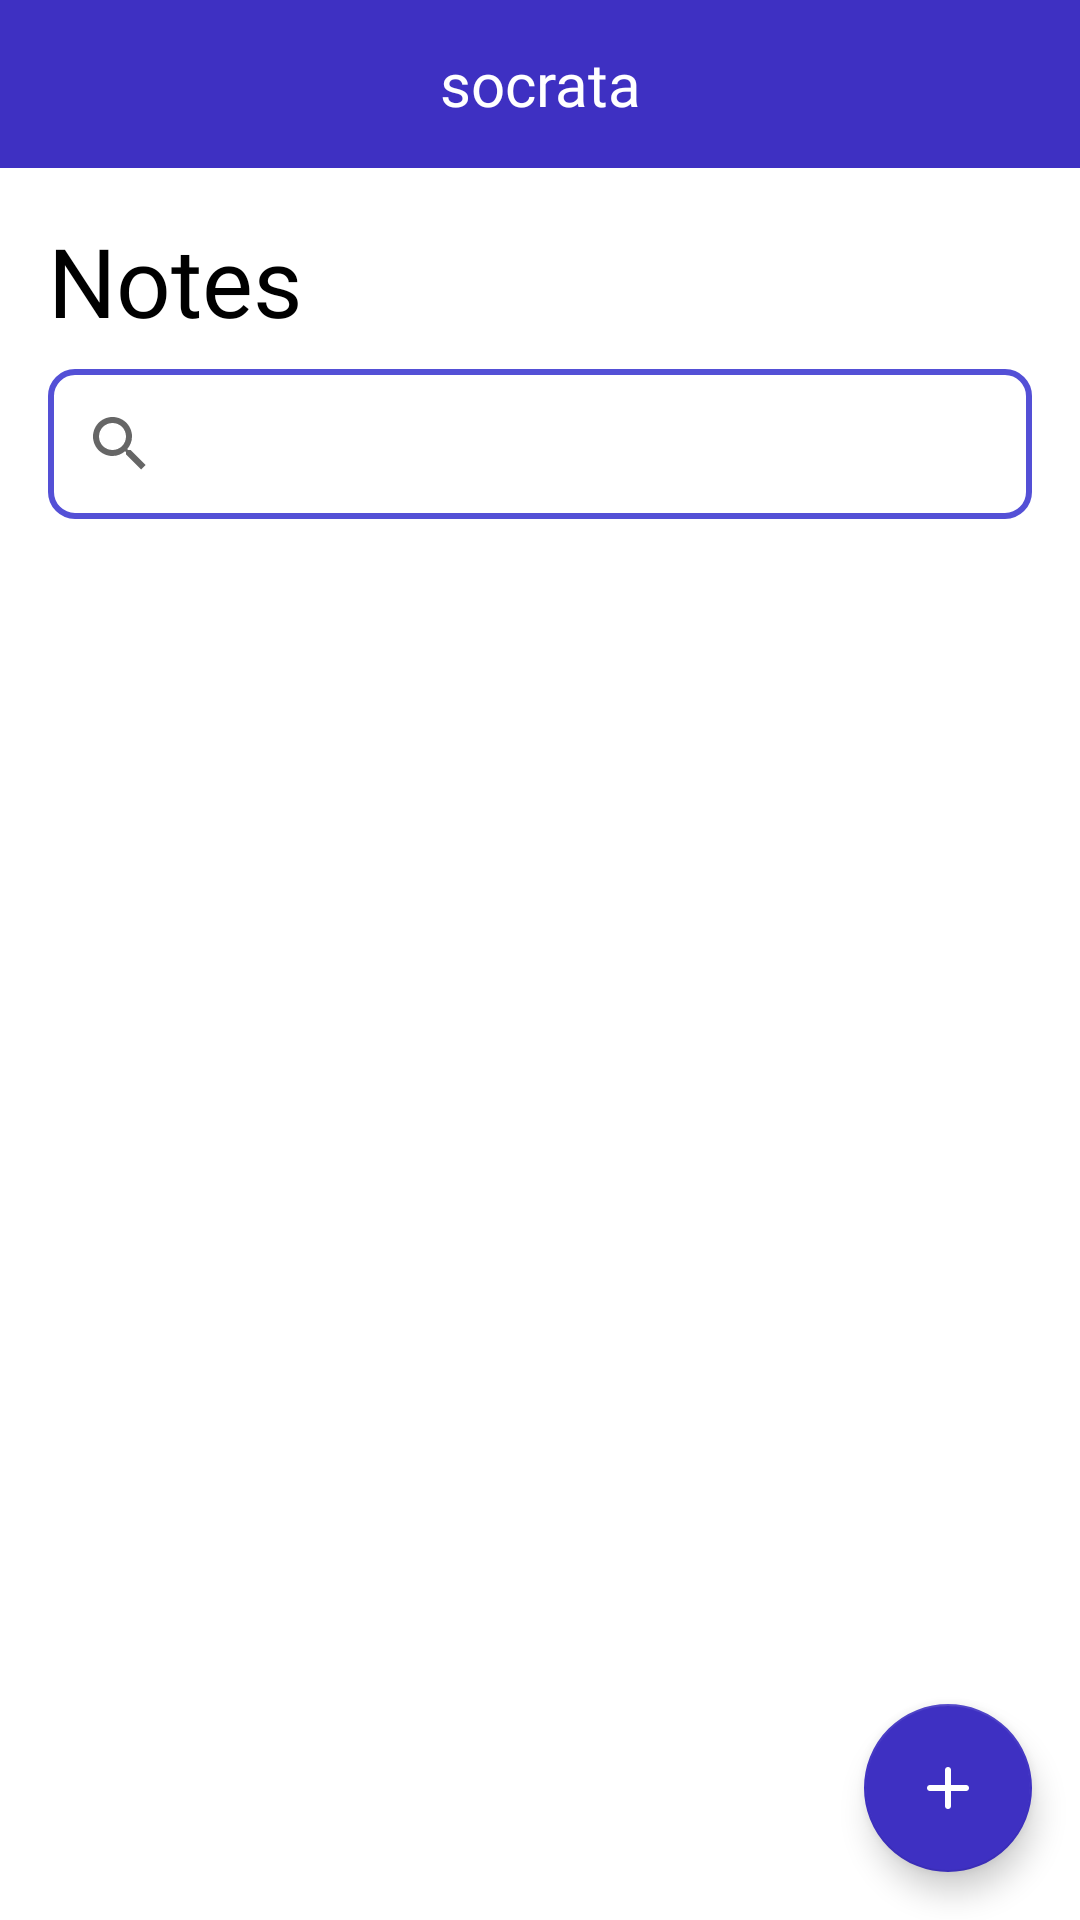

Screen size 1080 × 1920. Icon name, then its box in pixels as (x1, y1, x2, y2):
Add homework: (864, 1704, 1032, 1872)
